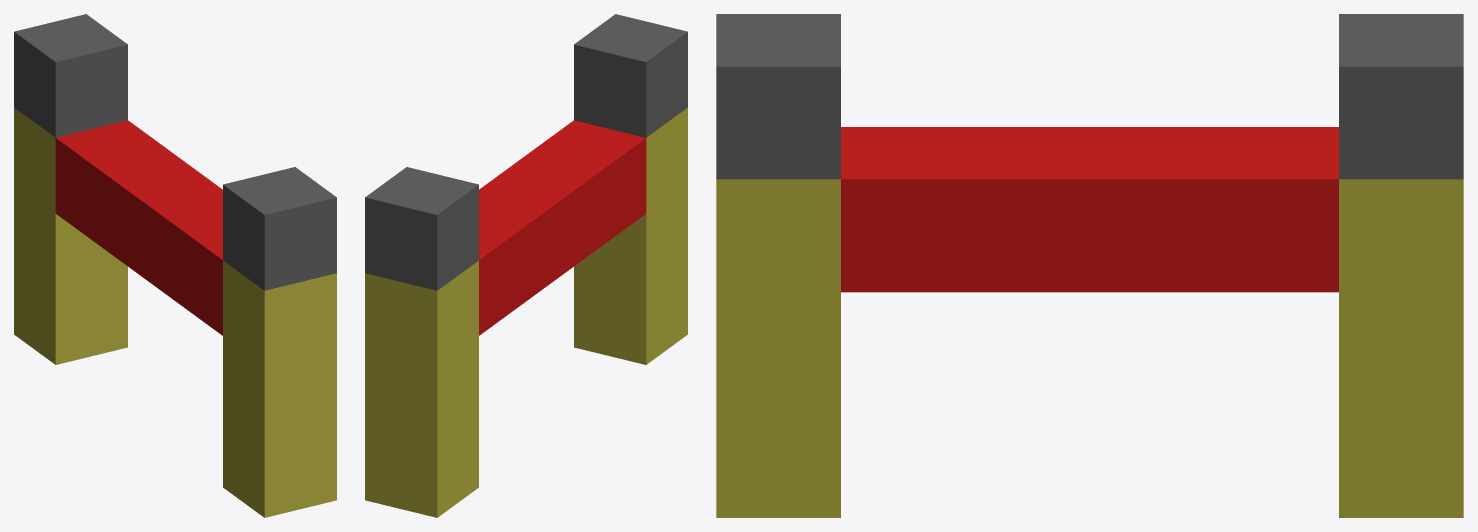
The model's file is red.obj.
The picture shows the model from 3 angles, left to right: view 1: azimuth 30°, elevation 25°; view 2: azimuth 150°, elevation 25°; view 3: azimuth 270°, elevation 25°; orthographic projection. The views are drawn at different scales.
Bounding box in the file's own units: 0.1 × 0.4 × 0.6.
1 material, 1 textured.
